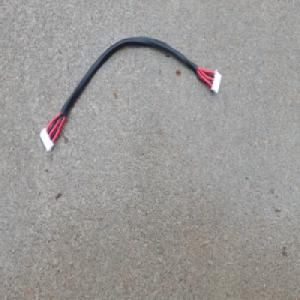Wire: (39, 34, 222, 154)
